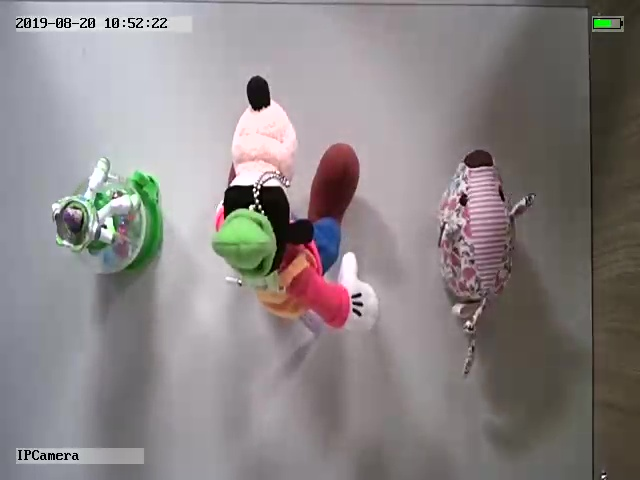buzz: (48, 155, 165, 274)
goofy: (210, 74, 379, 335)
pig: (437, 150, 539, 378)
